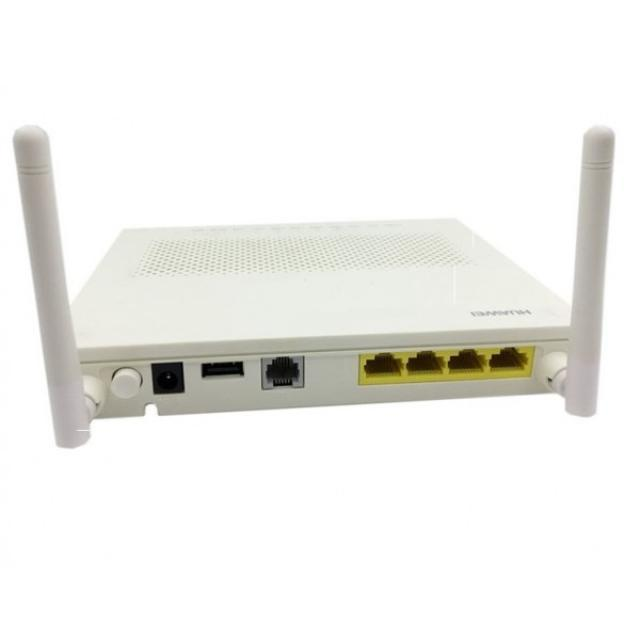Router: (12, 101, 620, 462)
